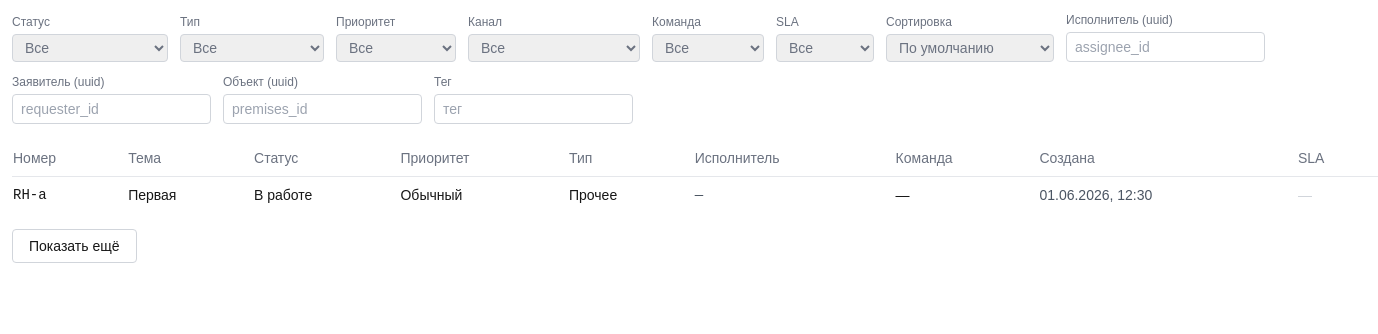
Test: TicketsView — пагинация › 401 при подгрузке → алерт со ссылкой на вход
The width and height of the screenshot is (1378, 334).
Click the button "Показать ещё".
click(74, 246)  # box [12,229,136,263]
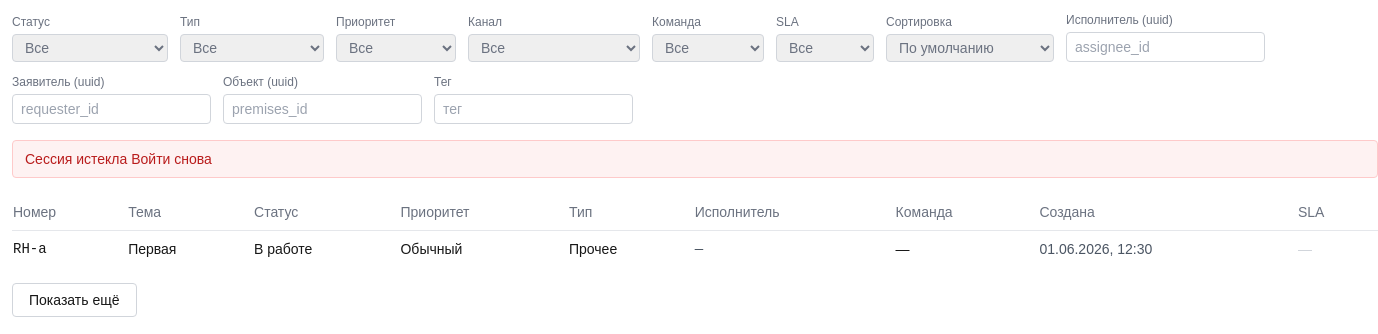
Expected: the message shows "Сессия истекла", [25,151,127,167]
Expected: the link "Войти снова" is shown, [131,151,212,167]
